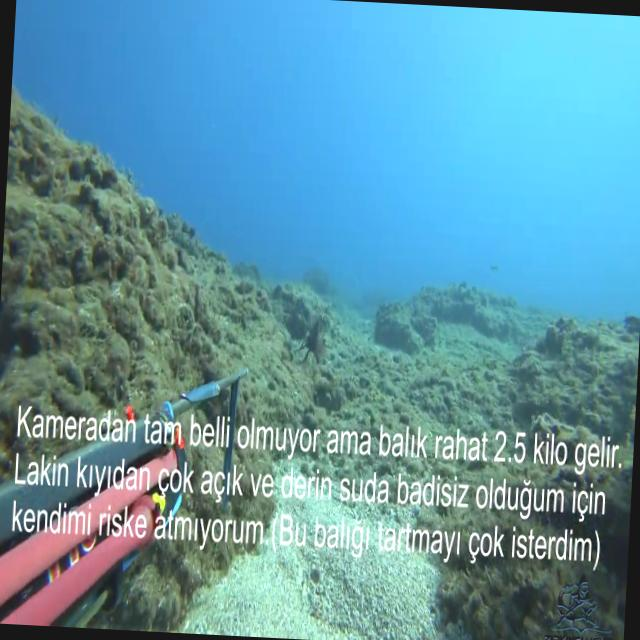Aslan Baligi: (288, 297, 335, 375)
